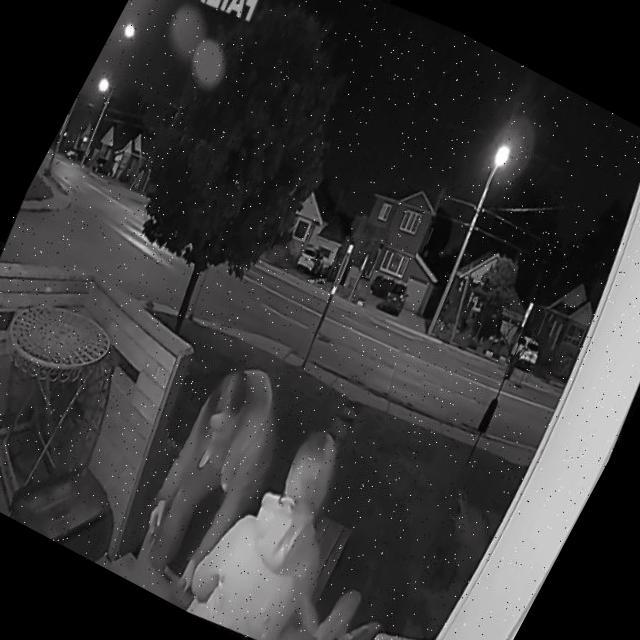person: (161, 391, 414, 640), (115, 344, 322, 594)
